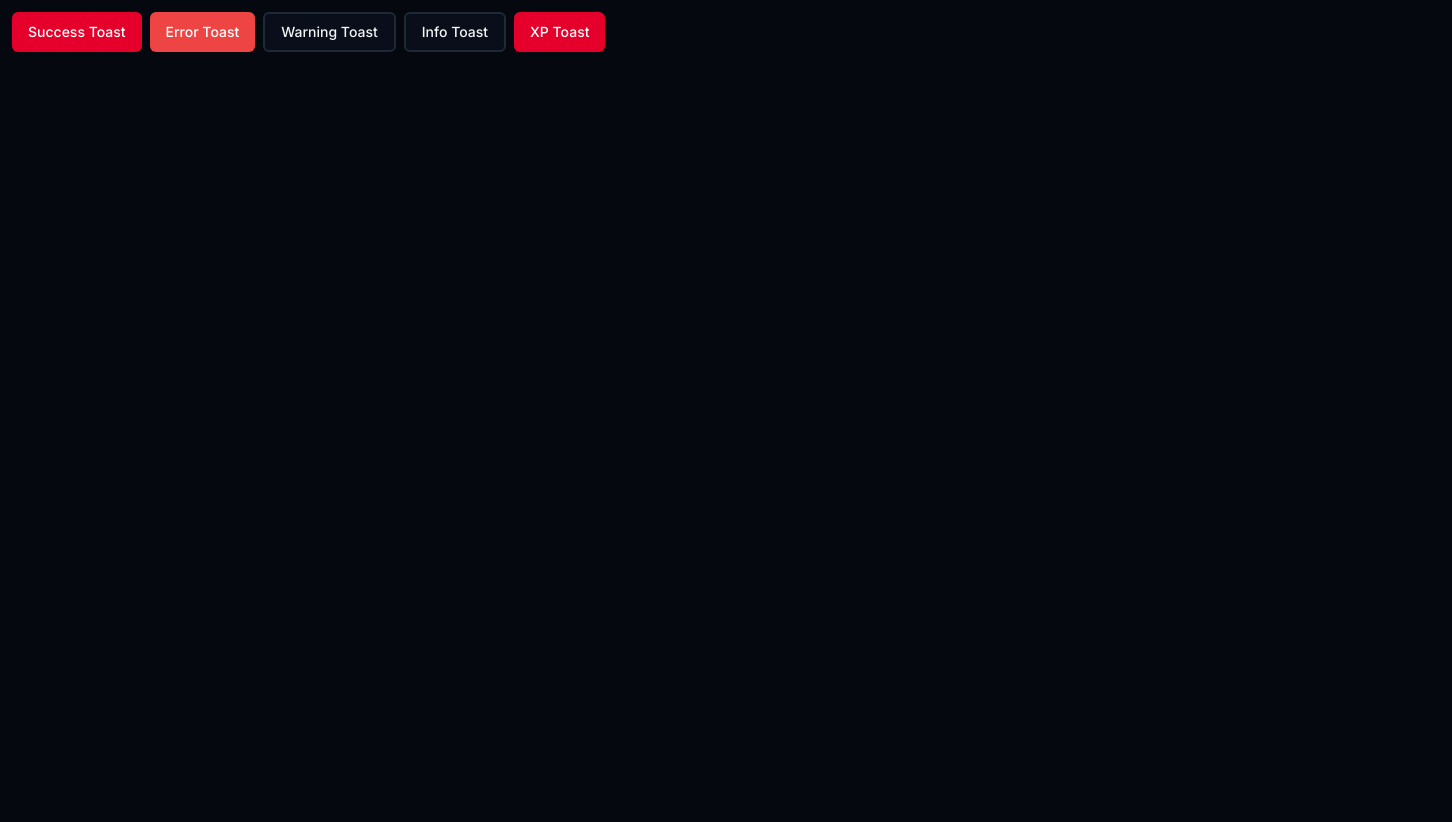
Test: Examples › should show success toast when button clicked
Click the button "Success Toast" at [77, 32], box [12,12,142,52]
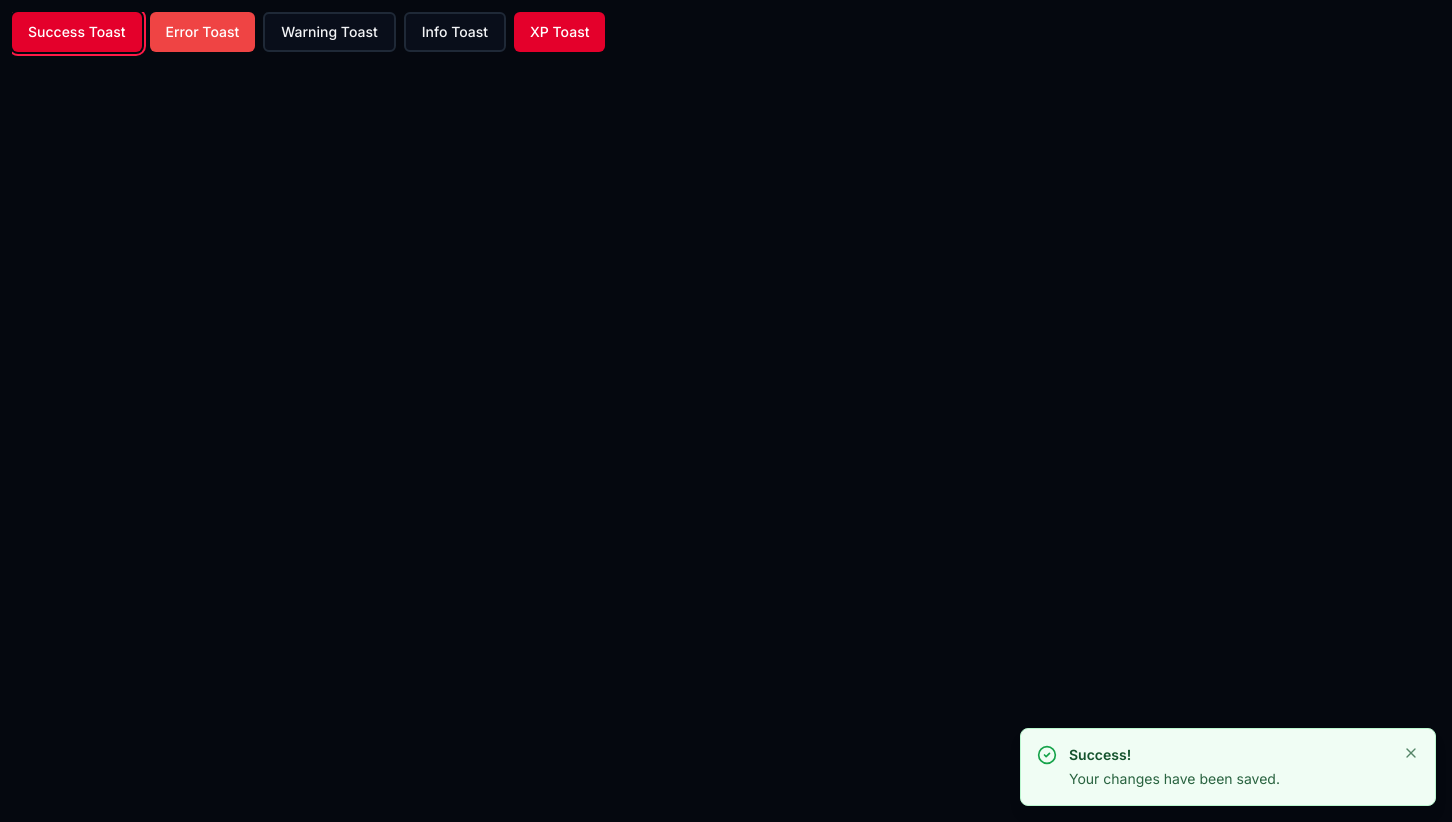
expect the text "Success!" is shown: met, box [1069,746,1131,763]
